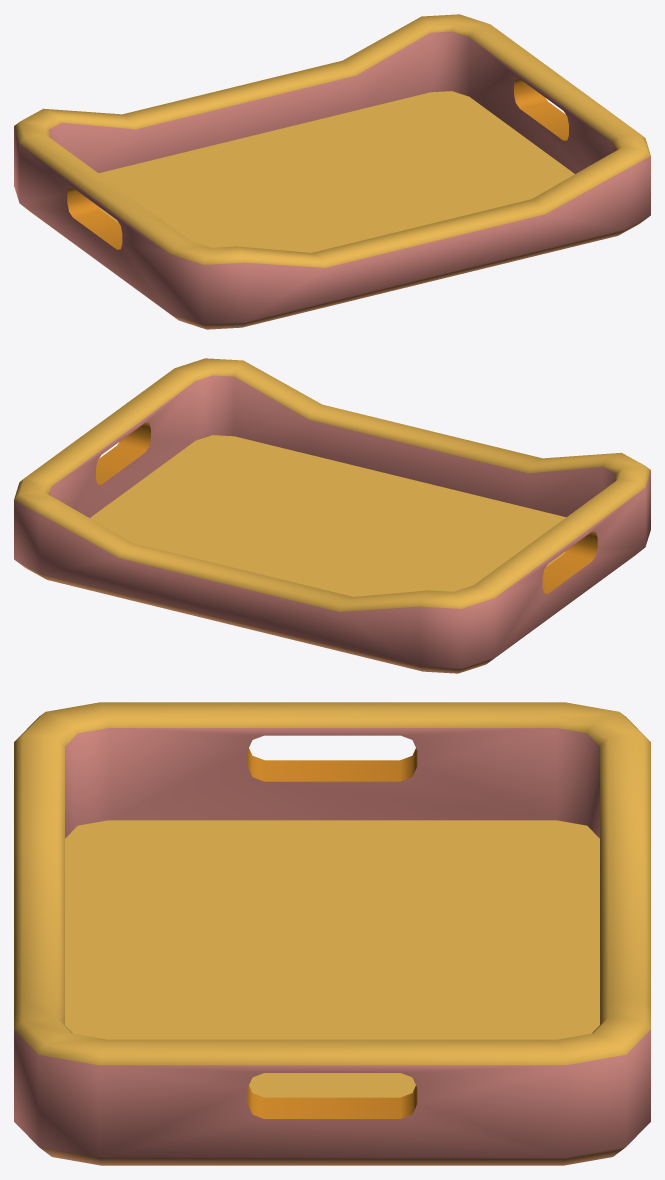
The model's file is itch_tiny_pleasant_picnic_serving_tray_square_b.glb.
3 renders of one model, top to bottom at view 1: azimuth 30°, elevation 25°; view 2: azimuth 150°, elevation 25°; view 3: azimuth 270°, elevation 25°, orthographic. The views are drawn at different scales.
Visible parts, largest first — view 1: serving_tray_square_B; view 2: serving_tray_square_B; view 3: serving_tray_square_B.
Boxes of the visible parts, left/top/right/bottom form: serving_tray_square_B: left=14, top=14, right=650, bottom=329; serving_tray_square_B: left=14, top=358, right=650, bottom=673; serving_tray_square_B: left=14, top=702, right=650, bottom=1165.
Bounding box in the file's own units: 0.96 × 0.144 × 0.72.
